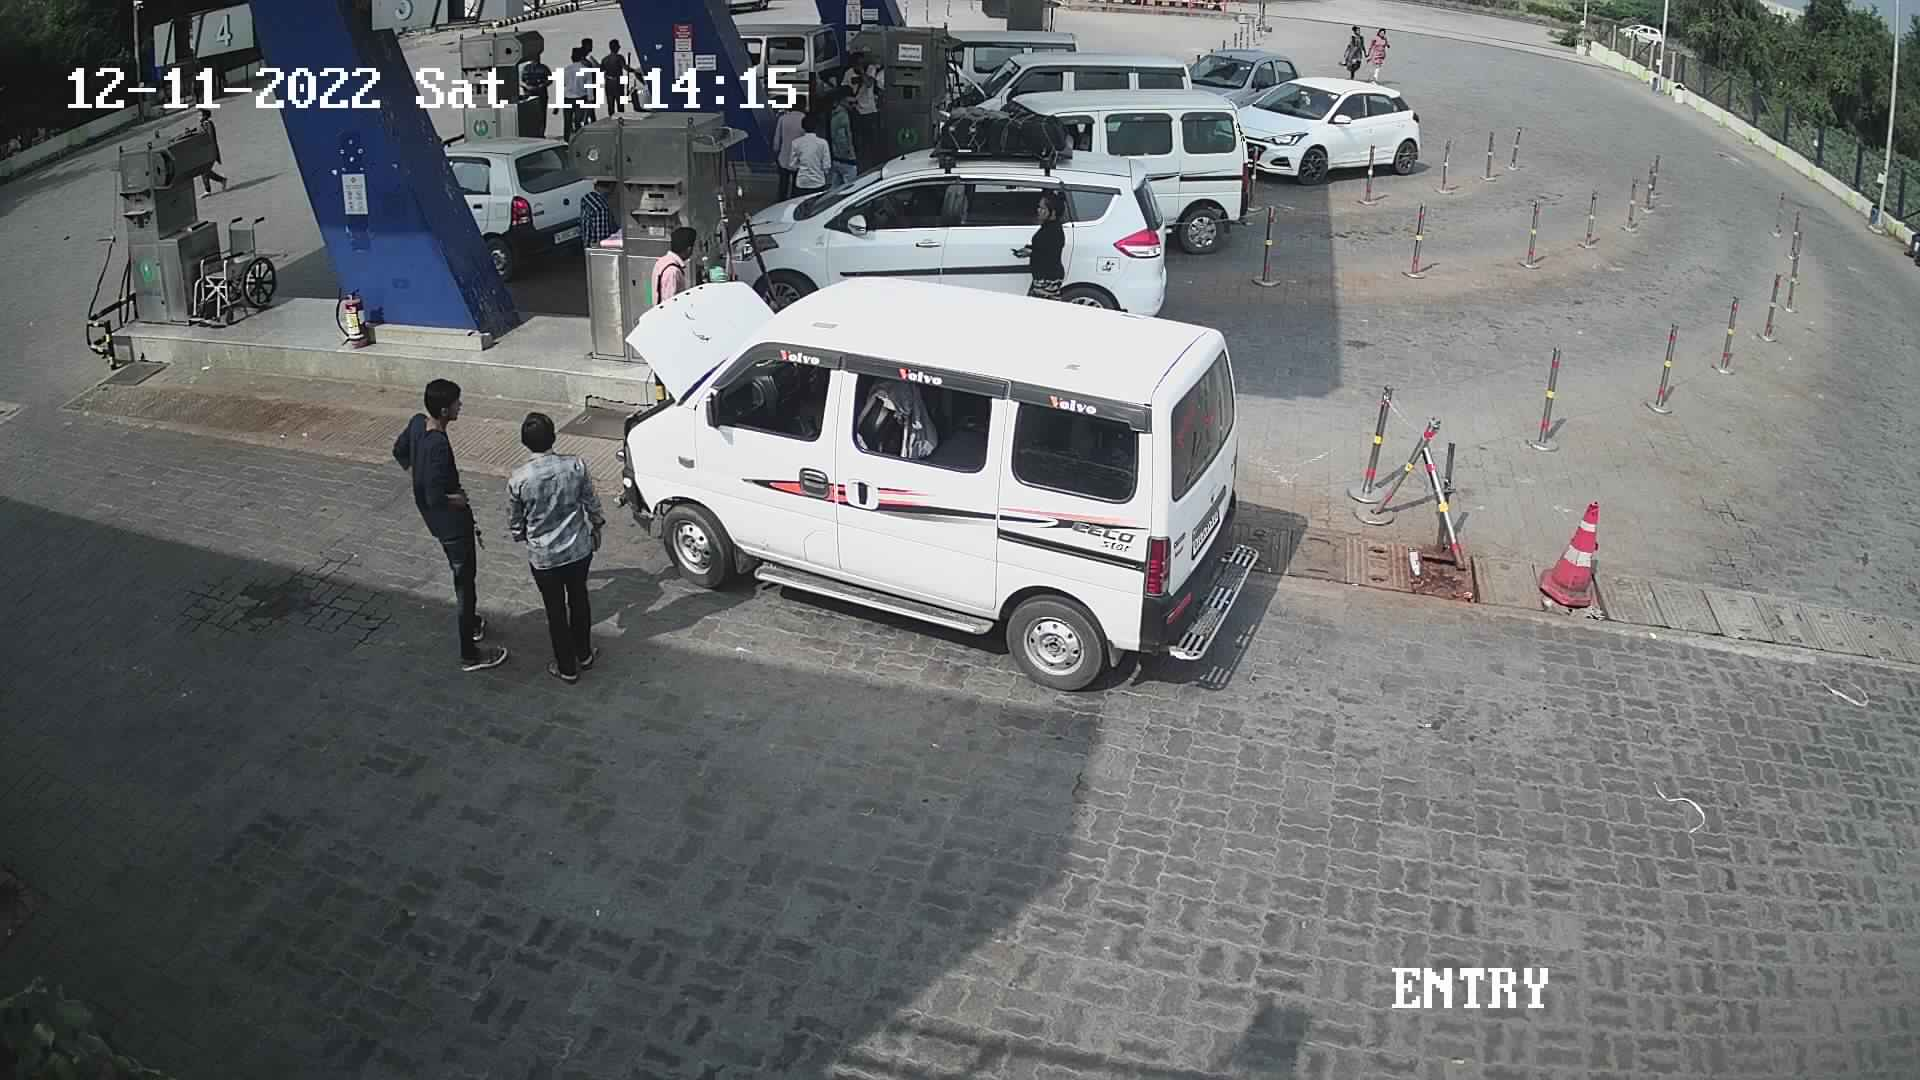Car: (625, 245, 1254, 700), (728, 141, 1172, 340), (920, 83, 1261, 260), (419, 113, 626, 284), (928, 44, 1203, 152), (1221, 73, 1423, 191), (727, 13, 853, 128), (927, 18, 1085, 104), (1179, 44, 1303, 117)
